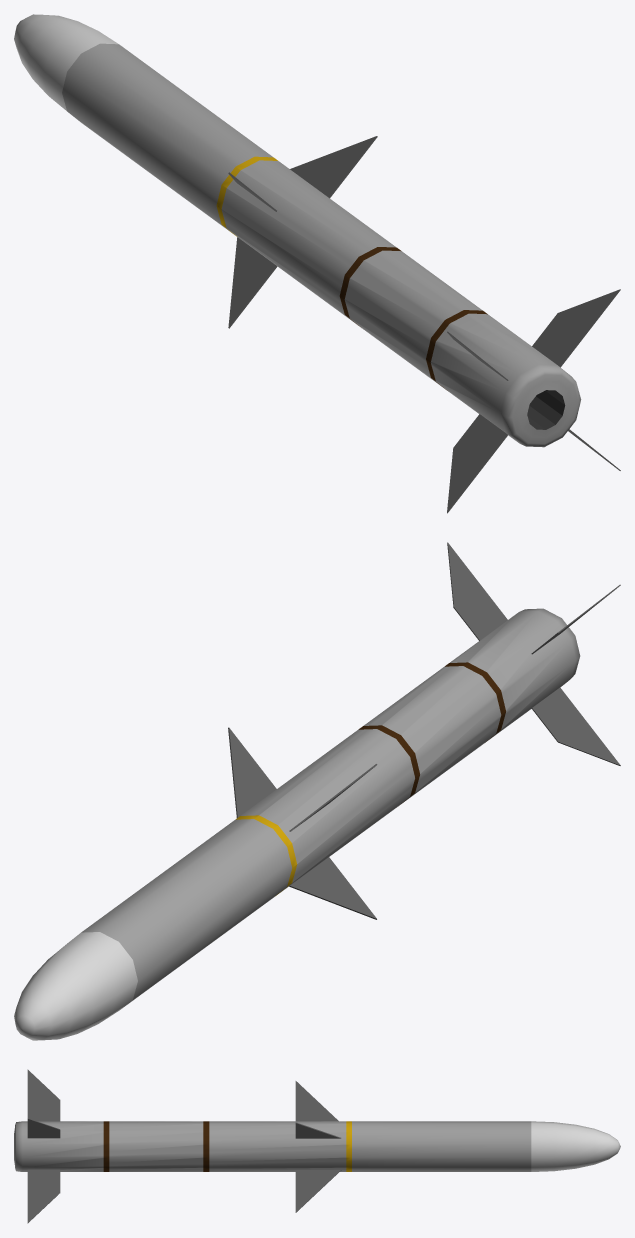
File: missile.FBX
The picture shows the model from 3 angles, top to bottom: view 1: azimuth 30°, elevation 25°; view 2: azimuth 150°, elevation 25°; view 3: azimuth 270°, elevation 25°; orthographic projection. The views are drawn at different scales.
Visible parts, largest first — view 1: Capsule01, Line06, Object04, Line02, Object05; view 2: Capsule01, Object04, Line06, Line02; view 3: Capsule01, Object04, Line06, Line02, Object01, Object02, Object03.
Boxes of the visible parts, x1,y1,x2,y2 form: Capsule01: (62, 43, 581, 447); Line06: (447, 289, 620, 513); Object04: (14, 14, 118, 110); Line02: (228, 136, 377, 328); Object05: (527, 390, 565, 429); Capsule01: (81, 608, 580, 1008); Object04: (14, 932, 137, 1040); Line06: (447, 542, 620, 765); Line02: (228, 727, 377, 919); Capsule01: (14, 1121, 531, 1171); Object04: (531, 1121, 620, 1171); Line06: (27, 1069, 60, 1223); Line02: (295, 1081, 341, 1212); Object01: (103, 1121, 109, 1171); Object02: (203, 1121, 209, 1171); Object03: (346, 1121, 351, 1171).
Bounding box in the file's own units: 21.43 × 21.43 × 112.
